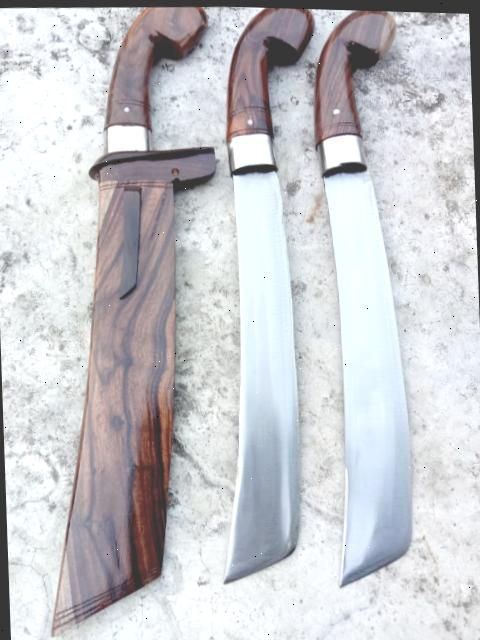long knife: (24, 2, 234, 640), (202, 5, 333, 586), (310, 7, 416, 589)
